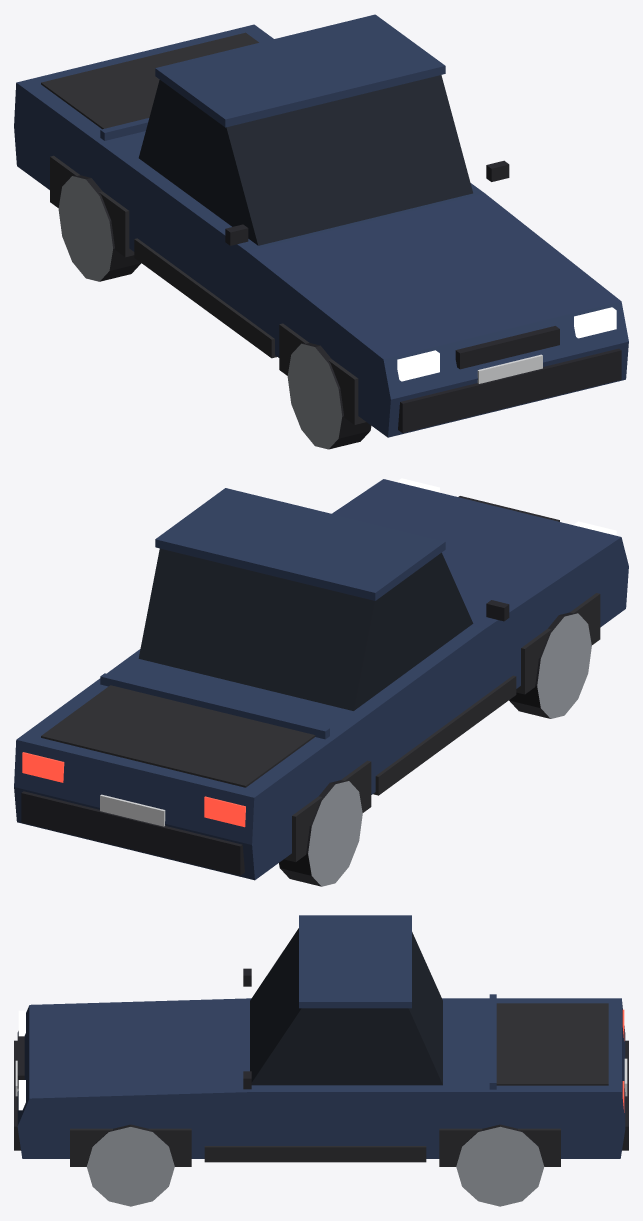
Rendered from tarpan.glb.
3 renders of one model, top to bottom at view 1: azimuth 30°, elevation 25°; view 2: azimuth 150°, elevation 25°; view 3: azimuth 270°, elevation 25°, orthographic. The views are drawn at different scales.
Parts seen in each view (by area): view 1: tarpan, wheel_FR, wheel_RR; view 2: tarpan, wheel_RR, wheel_FR; view 3: tarpan, wheel_FL, wheel_RL.
Boxes of the visible parts, x1,y1,x2,y2 form: tarpan: (14,14,628,437); wheel_FR: (287,343,371,449); wheel_RR: (58,175,141,281); tarpan: (14,478,628,880); wheel_RR: (279,780,362,886); wheel_FR: (509,612,591,718); tarpan: (14,915,628,1166); wheel_FL: (86,1124,174,1206); wheel_RL: (456,1124,544,1206).
Bounding box in the file's own units: 2.18 × 1.84 × 5.16.
